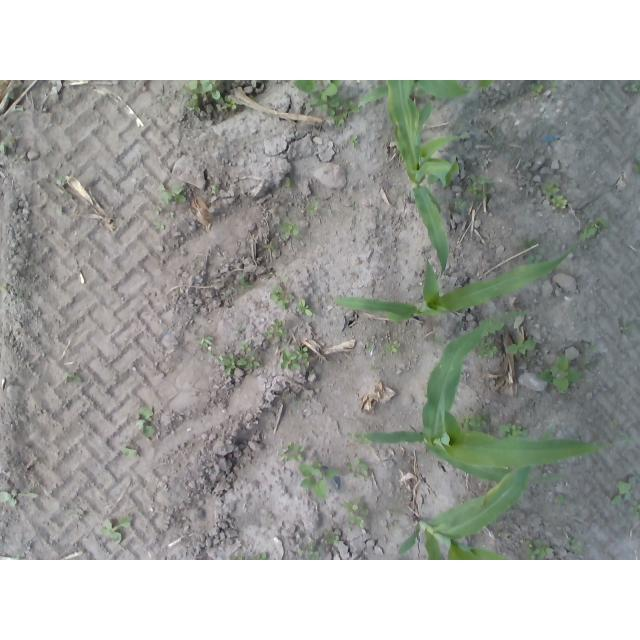Maize: (358, 310, 626, 485), (334, 229, 596, 323), (397, 426, 559, 560), (385, 80, 471, 285), (358, 80, 499, 109)
Weeds: (293, 80, 360, 129), (536, 354, 581, 394), (298, 461, 339, 500), (219, 340, 260, 376), (181, 80, 215, 113), (100, 516, 134, 545), (341, 497, 369, 532), (540, 179, 569, 210), (518, 235, 546, 266), (455, 411, 492, 434), (465, 172, 494, 201), (269, 279, 296, 310), (279, 346, 309, 371), (522, 538, 554, 560), (136, 406, 157, 438), (157, 184, 188, 205), (611, 476, 634, 504), (579, 217, 608, 239), (277, 442, 305, 463), (505, 338, 536, 356), (211, 89, 237, 110), (344, 457, 368, 479), (153, 205, 175, 229), (475, 336, 497, 359), (264, 319, 286, 342), (496, 423, 529, 438), (298, 540, 319, 560), (445, 197, 468, 215), (346, 430, 372, 445), (278, 220, 298, 238), (565, 536, 584, 554), (229, 552, 267, 561), (236, 271, 253, 291), (0, 134, 16, 155), (296, 299, 313, 318), (0, 490, 18, 507), (321, 530, 340, 546), (627, 499, 640, 519), (624, 81, 640, 96), (196, 335, 213, 349), (529, 82, 543, 98), (120, 446, 138, 458), (425, 171, 440, 185), (307, 199, 320, 214), (384, 343, 400, 354), (66, 373, 83, 383), (348, 134, 358, 147), (586, 341, 599, 351), (554, 495, 567, 504), (549, 81, 559, 92), (580, 359, 590, 370), (633, 160, 640, 175), (262, 242, 275, 250), (56, 176, 66, 185), (368, 342, 377, 351), (284, 177, 291, 188), (212, 183, 219, 194), (497, 531, 508, 537), (432, 338, 440, 345), (372, 365, 381, 371), (161, 96, 167, 103), (350, 200, 354, 206)
